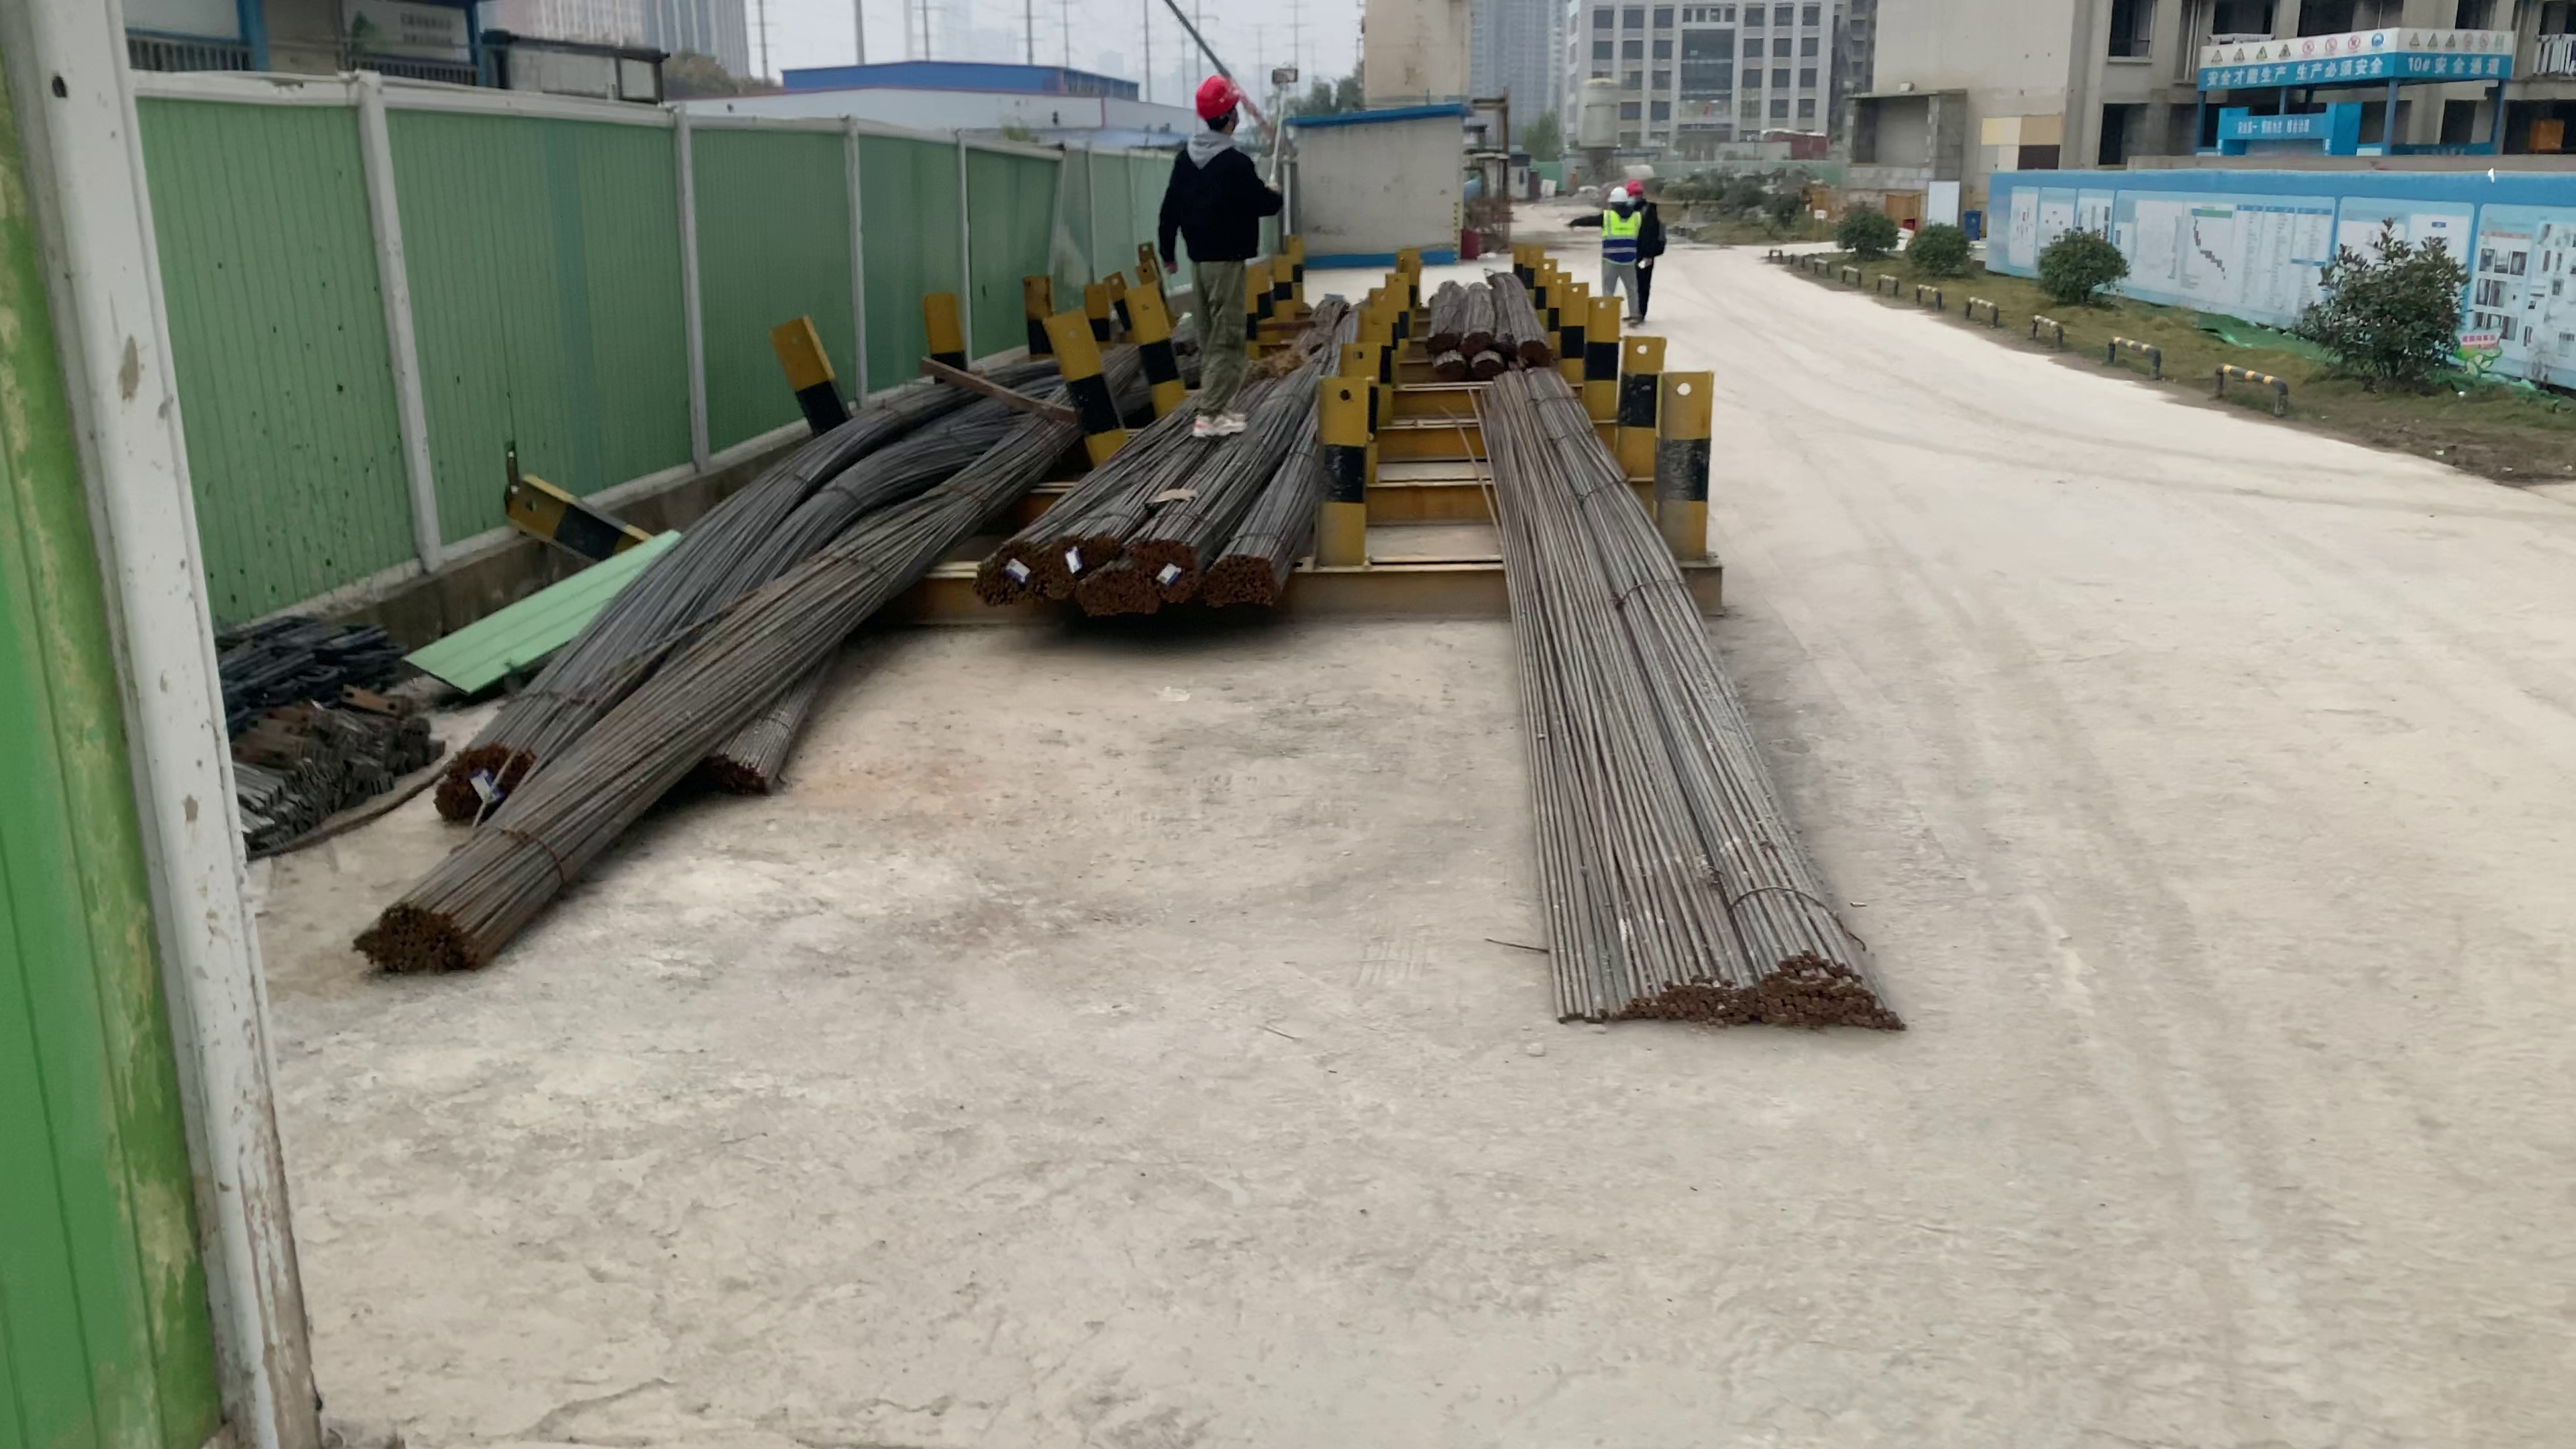rebar: (1566, 961, 1911, 1044), (352, 902, 474, 978), (432, 743, 524, 814), (683, 738, 778, 800), (1040, 524, 1113, 598), (970, 541, 1039, 609), (1074, 566, 1157, 617), (1196, 552, 1279, 603), (1136, 534, 1194, 598), (1518, 334, 1550, 356), (1435, 356, 1465, 372), (1468, 327, 1491, 347), (1426, 329, 1454, 343), (1474, 361, 1499, 377)
